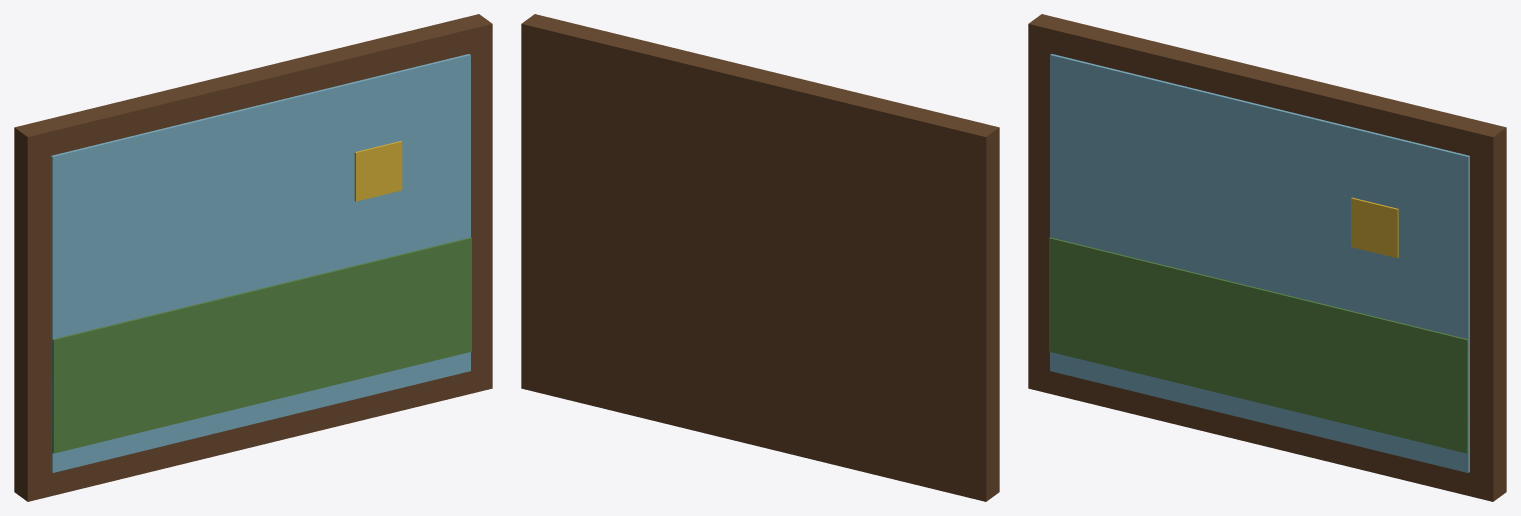
The model's file is GD_Frame_Landscape_01.glb.
3 views of the same model, side by side, from view 1: azimuth 30°, elevation 25°; view 2: azimuth 150°, elevation 25°; view 3: azimuth 330°, elevation 25° (orthographic).
Visible parts, largest first — view 1: GD_Frame_Landscape_01; view 2: GD_Frame_Landscape_01; view 3: GD_Frame_Landscape_01.
Part boxes in pixels (x1,y1,x2,y2): GD_Frame_Landscape_01: [14, 14, 492, 501]; GD_Frame_Landscape_01: [521, 14, 999, 501]; GD_Frame_Landscape_01: [1028, 14, 1506, 501].
Bounding box in the file's own units: 0.6 × 0.45 × 0.036.
Materials: 1 (1 with a texture image).
